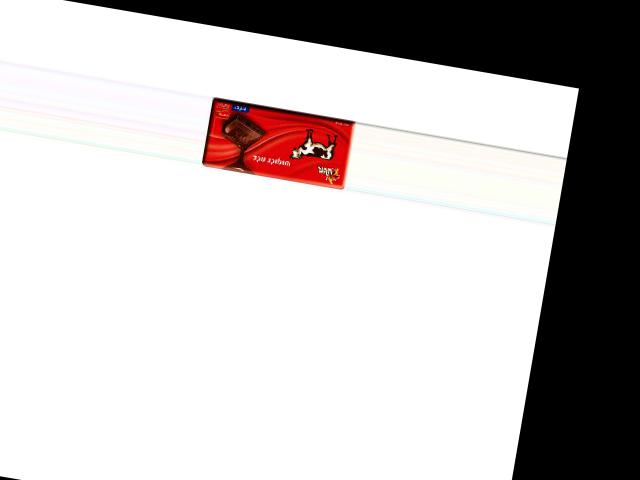chocolate: (200, 97, 356, 190)
